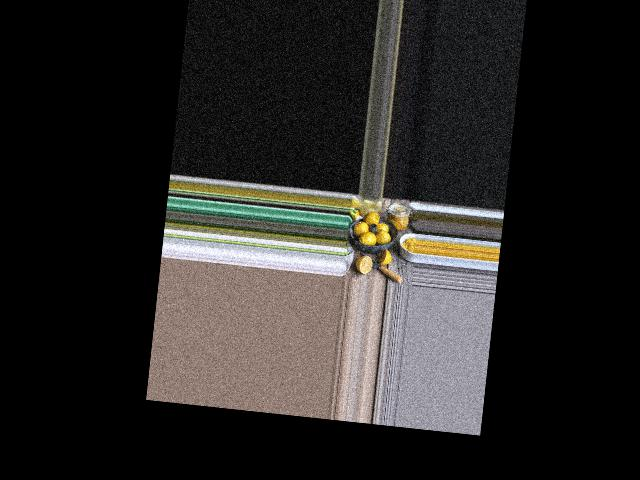lemon: (376, 229, 391, 246)
